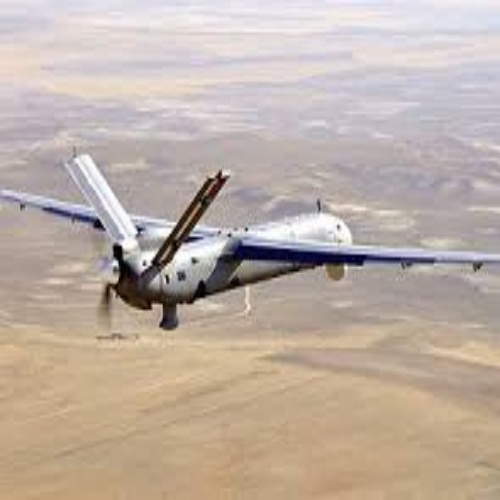uav: (1, 150, 500, 331)
